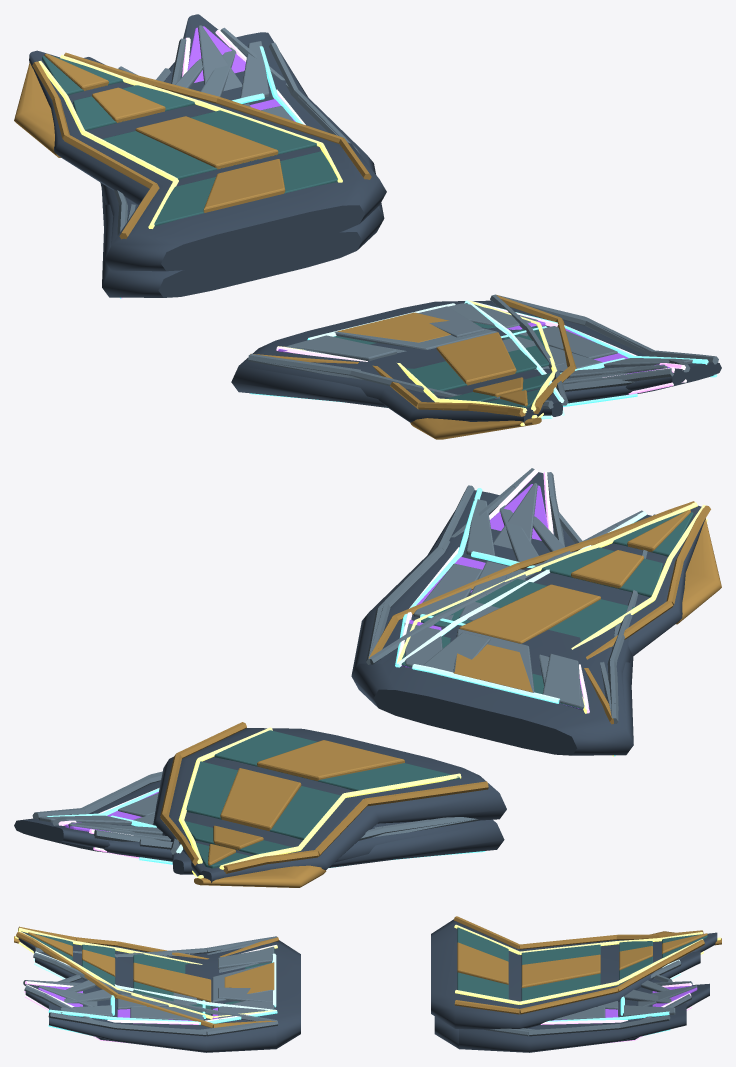
Rendered from wings.glb.
3 renders of one model, top to bottom at view 1: azimuth 30°, elevation 25°; view 2: azimuth 150°, elevation 25°; view 3: azimuth 270°, elevation 25°, orthographic. The views are drawn at different scales.
Parts seen in each view (by area): view 1: w_phantom Champagne gold edging, w_phantom Fitting gunmetal, w_razor Fitting gunmetal, w_phantom Phantom blue-black enamel, w_vane Brushed fitting edges, w_vane Fitting gunmetal, w_prism Brushed fitting edges, w_razor Brushed fitting edges, w_phantom w_phantom emitter, w_vane w_vane emitter, w_prism w_prism emitter, w_prism Violet prismatic glass (+2 smaller); view 2: w_phantom Champagne gold edging, w_razor Fitting gunmetal, w_phantom Fitting gunmetal, w_phantom Phantom blue-black enamel, w_vane Brushed fitting edges, w_vane Fitting gunmetal, w_prism Brushed fitting edges, w_razor Brushed fitting edges, w_phantom w_phantom emitter, w_vane w_vane emitter, w_razor w_razor emitter, w_prism Violet prismatic glass (+2 smaller); view 3: w_phantom Champagne gold edging, w_phantom Fitting gunmetal, w_vane Fitting gunmetal, w_vane Brushed fitting edges, w_phantom Phantom blue-black enamel, w_razor Fitting gunmetal, w_razor Brushed fitting edges, w_prism Brushed fitting edges, w_phantom w_phantom emitter, w_vane w_vane emitter, w_prism w_prism emitter, w_razor w_razor emitter (+2 smaller).
Boxes of the visible parts, bbox=[...] form: w_phantom Champagne gold edging: bbox=[14, 52, 576, 439]; w_phantom Fitting gunmetal: bbox=[29, 50, 571, 422]; w_razor Fitting gunmetal: bbox=[84, 57, 562, 416]; w_phantom Phantom blue-black enamel: bbox=[42, 56, 551, 408]; w_vane Brushed fitting edges: bbox=[117, 41, 718, 391]; w_vane Fitting gunmetal: bbox=[101, 32, 721, 407]; w_prism Brushed fitting edges: bbox=[127, 25, 690, 382]; w_razor Brushed fitting edges: bbox=[114, 66, 568, 408]; w_phantom w_phantom emitter: bbox=[38, 54, 557, 425]; w_vane w_vane emitter: bbox=[120, 46, 717, 406]; w_prism w_prism emitter: bbox=[121, 29, 686, 407]; w_prism Violet prismatic glass: bbox=[187, 26, 670, 374]; w_phantom Champagne gold edging: bbox=[160, 501, 721, 887]; w_razor Fitting gunmetal: bbox=[172, 514, 651, 874]; w_phantom Fitting gunmetal: bbox=[153, 505, 705, 882]; w_phantom Phantom blue-black enamel: bbox=[185, 511, 693, 868]; w_vane Brushed fitting edges: bbox=[32, 485, 620, 849]; w_vane Fitting gunmetal: bbox=[14, 490, 633, 867]; w_prism Brushed fitting edges: bbox=[52, 468, 611, 841]; w_razor Brushed fitting edges: bbox=[170, 510, 655, 854]; w_phantom w_phantom emitter: bbox=[178, 502, 707, 878]; w_vane w_vane emitter: bbox=[47, 488, 615, 868]; w_razor w_razor emitter: bbox=[176, 511, 646, 853]; w_prism Violet prismatic glass: bbox=[65, 484, 589, 831]; w_phantom Champagne gold edging: bbox=[14, 916, 721, 1027]; w_phantom Fitting gunmetal: bbox=[18, 919, 717, 1029]; w_vane Fitting gunmetal: bbox=[49, 979, 686, 1052]; w_vane Brushed fitting edges: bbox=[48, 946, 675, 1036]; w_phantom Phantom blue-black enamel: bbox=[28, 927, 707, 1019]; w_razor Fitting gunmetal: bbox=[35, 940, 700, 1048]; w_razor Brushed fitting edges: bbox=[33, 936, 681, 1021]; w_prism Brushed fitting edges: bbox=[23, 938, 697, 1030]; w_phantom w_phantom emitter: bbox=[15, 924, 720, 1019]; w_vane w_vane emitter: bbox=[48, 995, 670, 1035]; w_prism w_prism emitter: bbox=[24, 945, 691, 1043]; w_razor w_razor emitter: bbox=[34, 951, 680, 1010].
Bounding box in the file's own units: 23.11 × 6.56 × 60.86.
